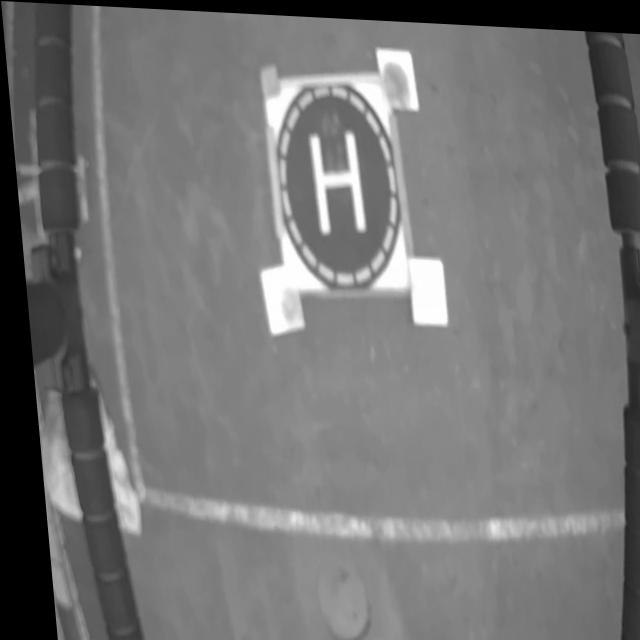Helipad: (303, 125, 361, 232)
